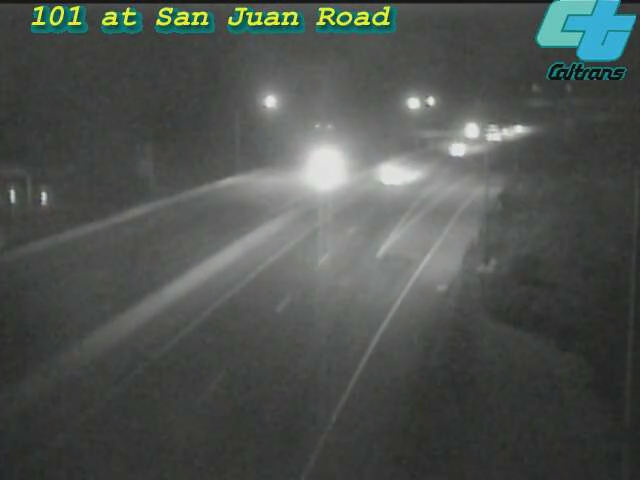vehicle: (285, 125, 365, 205), (364, 128, 444, 208), (444, 104, 494, 154), (497, 102, 547, 152), (473, 107, 523, 157), (436, 123, 486, 173)
